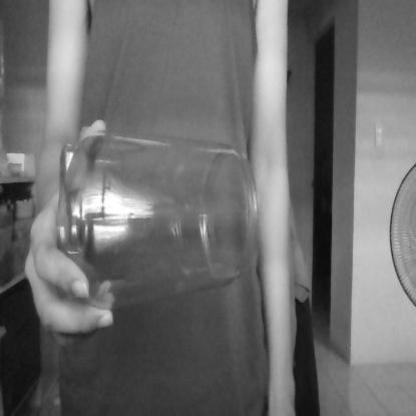Plastic Bottle: (56, 126, 258, 307)
